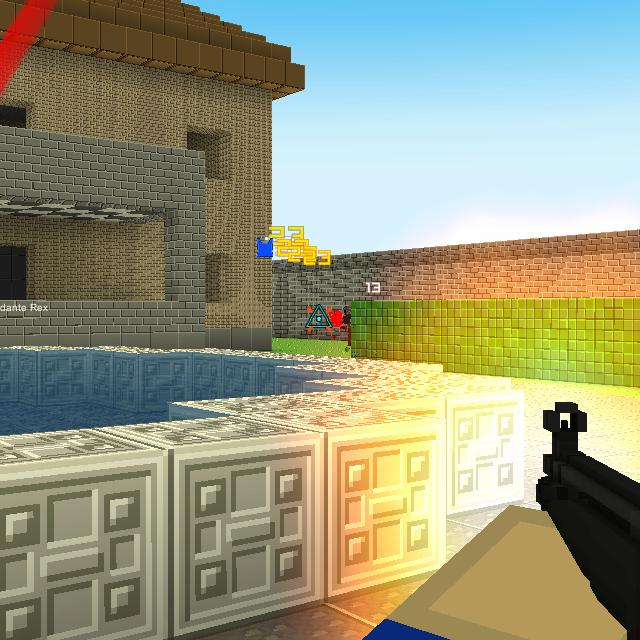enemy: (343, 306, 353, 346)
